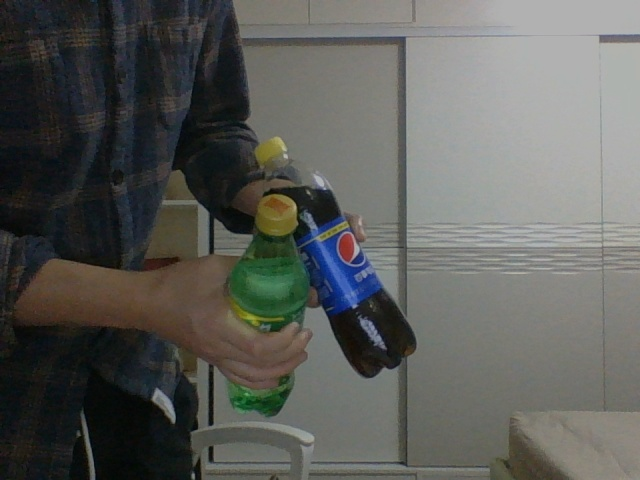Cola: (258, 138, 418, 378)
Sprite: (225, 197, 307, 416)
